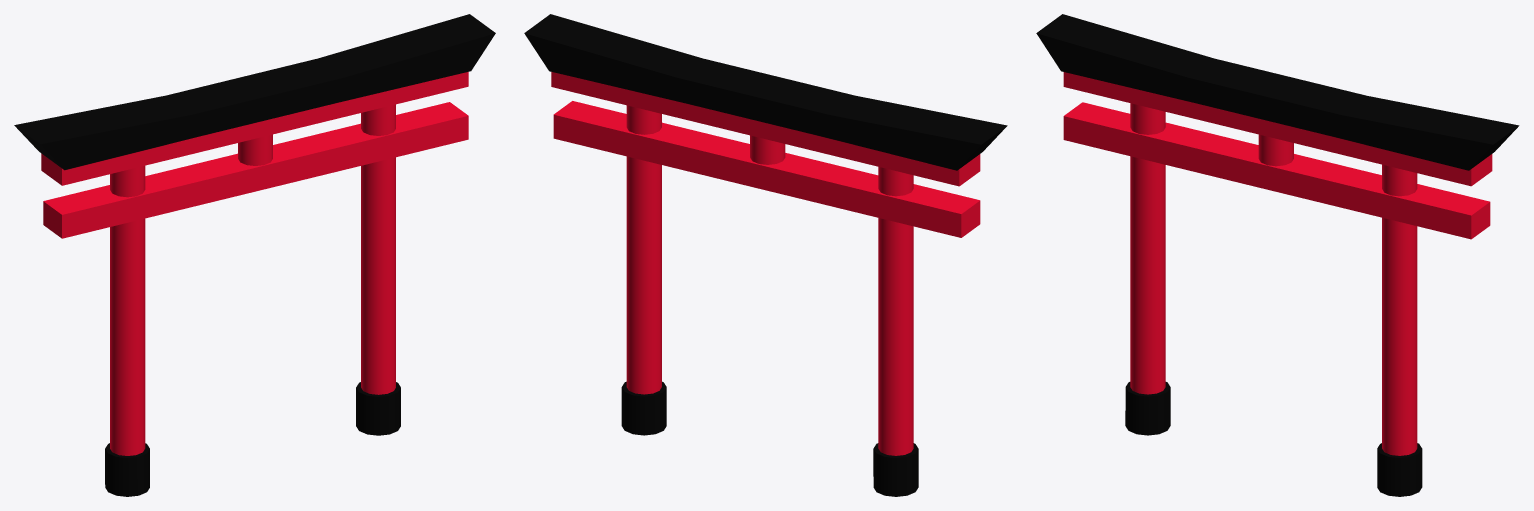
Rendered from bird_door.FBX.
The picture shows the model from 3 angles, left to right: view 1: azimuth 30°, elevation 25°; view 2: azimuth 150°, elevation 25°; view 3: azimuth 330°, elevation 25°; orthographic projection.
Parts seen in each view (by area): view 1: Box003, Box001, Cone005, Cone002, Box002, Cone006, Cone004, Cone003; view 2: Box003, Box001, Cone002, Cone005, Box002, Cone006, Cone004, Cone003; view 3: Box003, Box001, Cone005, Cone002, Box002, Cone006, Cone004, Cone003.
Boxes of the visible parts, bbox=[...] form: Box003: bbox=[14, 14, 495, 170]; Box001: bbox=[43, 102, 468, 238]; Cone005: bbox=[110, 165, 145, 455]; Cone002: bbox=[361, 104, 395, 394]; Box002: bbox=[41, 72, 468, 185]; Cone006: bbox=[105, 443, 149, 496]; Cone004: bbox=[356, 382, 400, 435]; Cone003: bbox=[238, 134, 272, 165]; Box003: bbox=[524, 14, 1007, 170]; Box001: bbox=[553, 101, 980, 237]; Cone002: bbox=[626, 105, 661, 394]; Cone005: bbox=[878, 167, 913, 455]; Box002: bbox=[551, 72, 980, 186]; Cone006: bbox=[873, 443, 918, 496]; Cone004: bbox=[621, 381, 666, 435]; Cone003: bbox=[750, 135, 785, 164]; Box003: bbox=[1036, 14, 1519, 170]; Box001: bbox=[1063, 102, 1490, 239]; Cone005: bbox=[1130, 103, 1165, 394]; Cone002: bbox=[1382, 164, 1417, 455]; Box002: bbox=[1063, 72, 1492, 186]; Cone006: bbox=[1125, 382, 1170, 435]; Cone004: bbox=[1377, 443, 1422, 496]; Cone003: bbox=[1258, 134, 1293, 166].
Size of the model in its own units: 91.57 by 72.22 by 9.14.
1 material, 1 textured.
